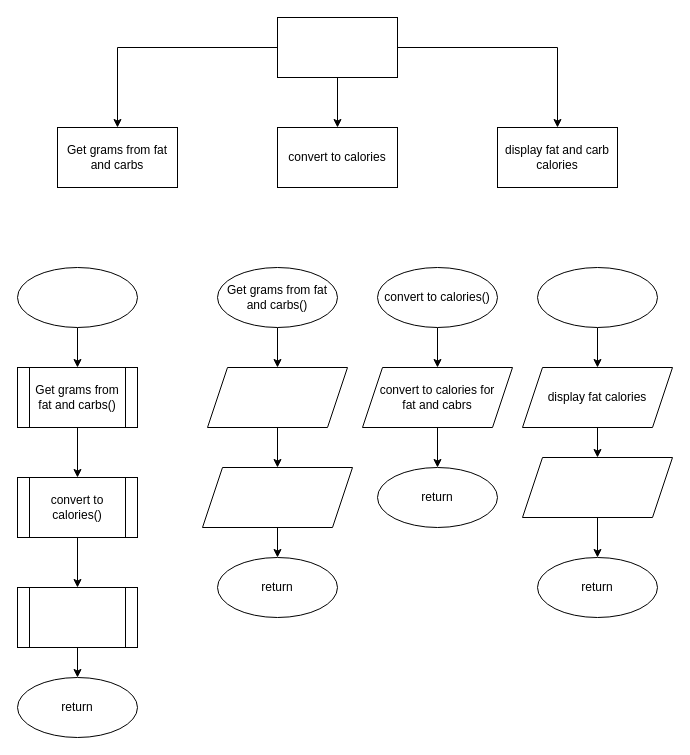
Some shapes in this 690 by 755 pixel diagram are drawn without their labels. The box of each missing label's shape, as (x1, y1, x2, y2) in pixels:
ask for grams of carbs: (202, 466, 352, 528)
ask for grams of fat: (206, 366, 348, 428)
Calories from fat to carbs: (276, 16, 398, 78)
display calories for fat and cabrs(): (16, 586, 138, 648)
display carb caories: (522, 456, 672, 518)
display fat and carb calories(): (536, 266, 658, 328)
main(): (16, 266, 138, 328)
